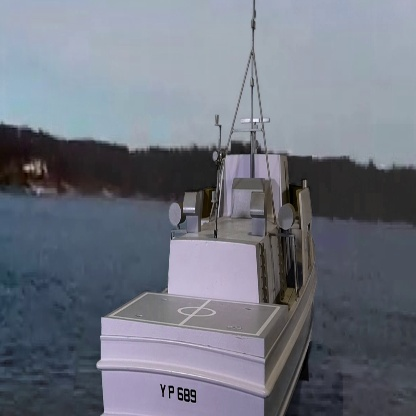YP689: (95, 0, 321, 416)
